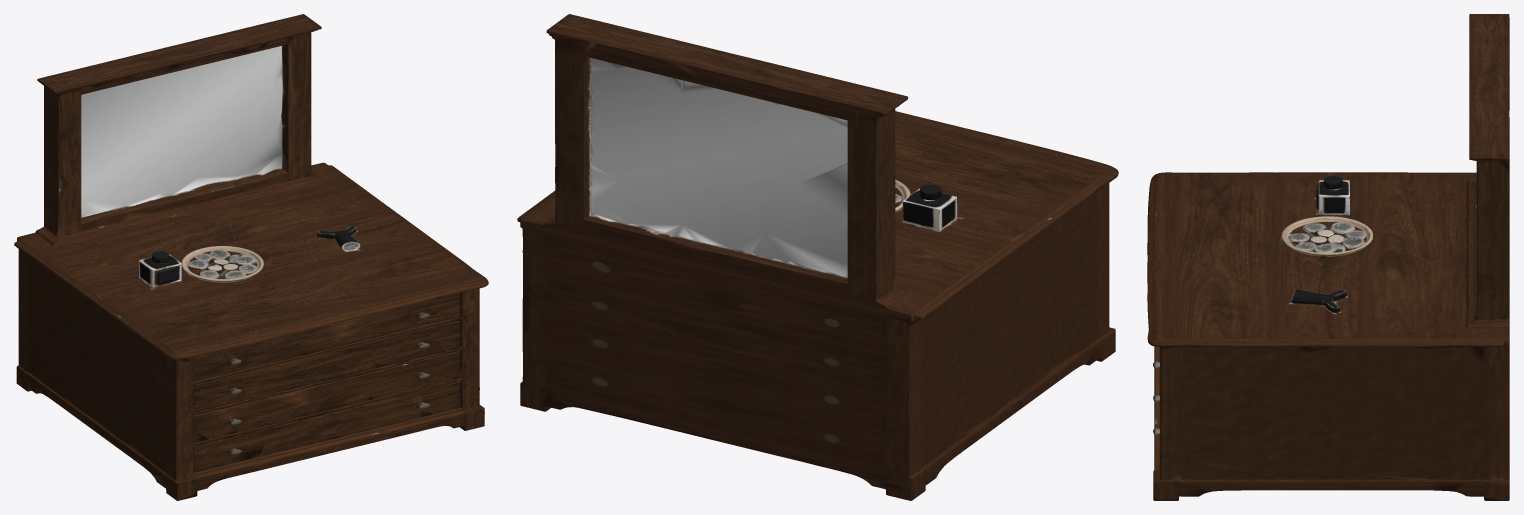
File: desktop.glb
3 renders of one model, left to right at view 1: azimuth 30°, elevation 25°; view 2: azimuth 150°, elevation 25°; view 3: azimuth 270°, elevation 25°, orthographic. The views are drawn at different scales.
Visible parts, largest first — view 1: d-dresser; view 2: d-dresser; view 3: d-dresser.
Boxes of the visible parts, left/top/right/bottom form: d-dresser: left=14, top=14, right=488, bottom=500; d-dresser: left=517, top=14, right=1118, bottom=500; d-dresser: left=1147, top=14, right=1509, bottom=500.
Size of the model in its own units: 0.9997 by 0.9001 by 0.8886.
Materials: 1 (1 with a texture image).
